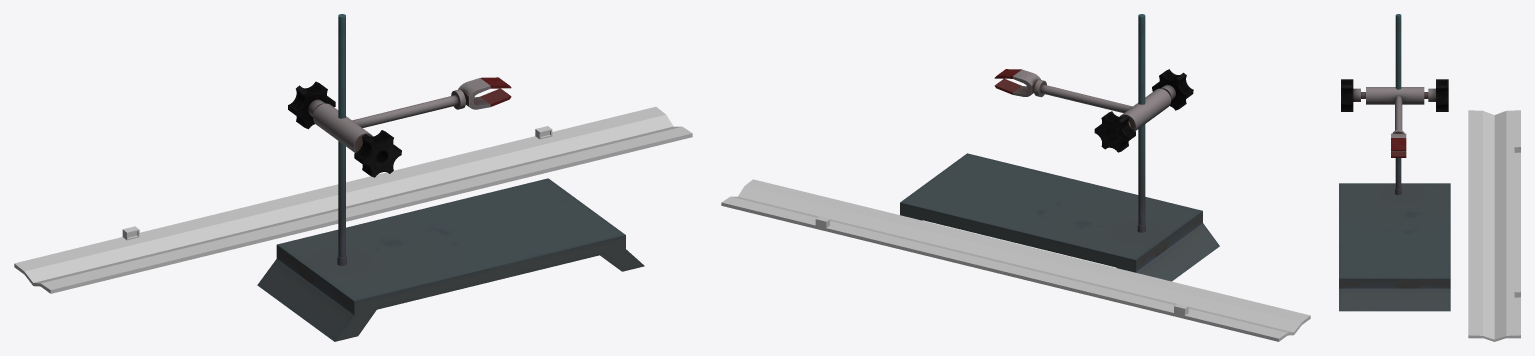
File: shtativ 1.fbx
The picture shows the model from 3 angles, left to right: view 1: azimuth 30°, elevation 25°; view 2: azimuth 150°, elevation 25°; view 3: azimuth 270°, elevation 25°; orthographic projection. The views are drawn at different scales.
Visible parts, largest first — view 1: shtativ_low.002, platform_low, Derjatel_low.004, Derjatel_low.005; view 2: shtativ_low.002, platform_low, Derjatel_low.004, Derjatel_low.005; view 3: shtativ_low.002, platform_low, Derjatel_low.004, Derjatel_low.005.
Boxes of the visible parts, x1=… form: shtativ_low.002: x1=257, y1=14, x2=644, y2=341; platform_low: x1=14, y1=106, x2=692, y2=293; Derjatel_low.004: x1=288, y1=81, x2=465, y2=177; Derjatel_low.005: x1=458, y1=77, x2=511, y2=109; shtativ_low.002: x1=900, y1=14, x2=1219, y2=281; platform_low: x1=721, y1=179, x2=1310, y2=341; Derjatel_low.004: x1=1034, y1=69, x2=1193, y2=152; Derjatel_low.005: x1=994, y1=69, x2=1040, y2=96; shtativ_low.002: x1=1339, y1=14, x2=1450, y2=311; platform_low: x1=1468, y1=110, x2=1520, y2=341; Derjatel_low.004: x1=1341, y1=79, x2=1448, y2=133; Derjatel_low.005: x1=1391, y1=133, x2=1406, y2=157.
Size of the model in its own units: 127 by 53.52 by 43.15.
